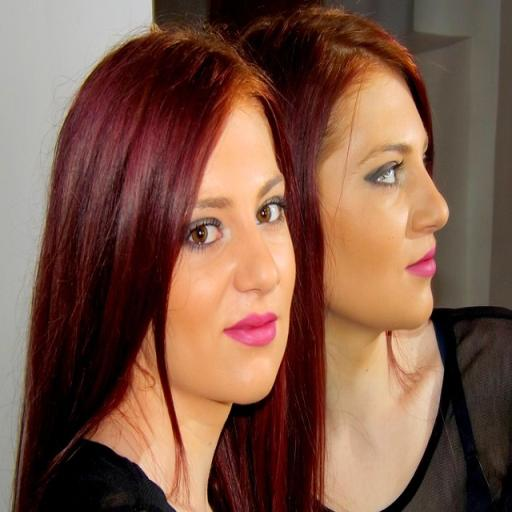lipstick: (224, 313, 277, 346), (407, 248, 435, 277)
